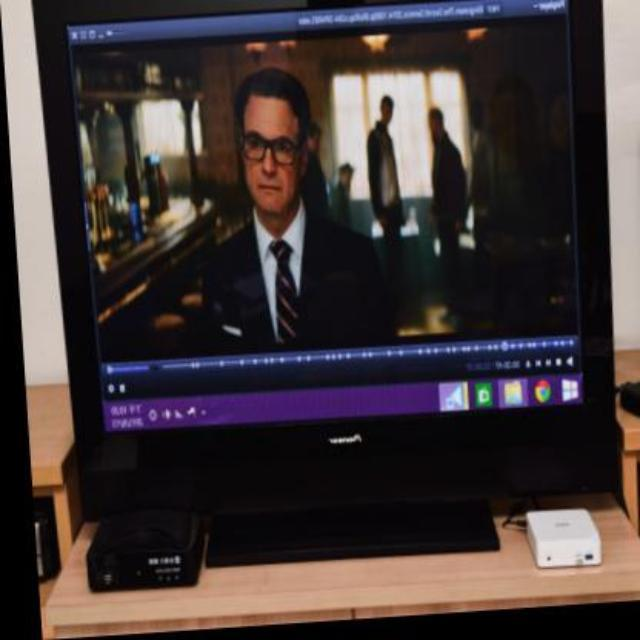Television: (26, 0, 626, 501)
